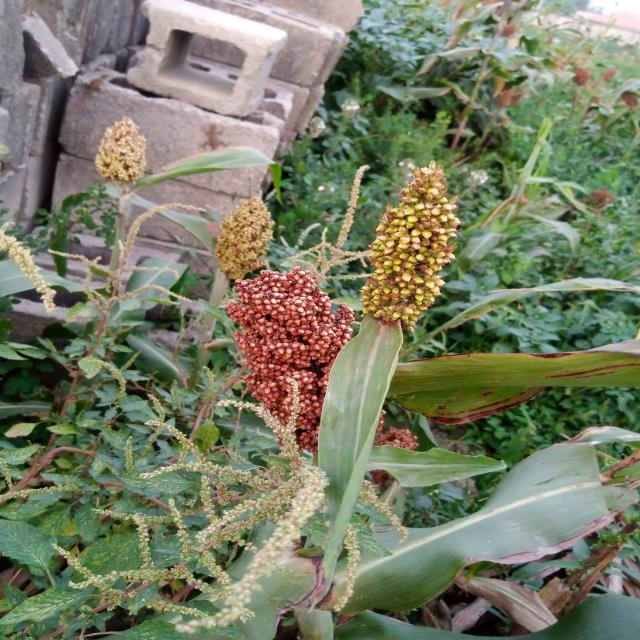RipeSorghum: (224, 284, 354, 438)
UnripeSorghum: (363, 157, 479, 332)
